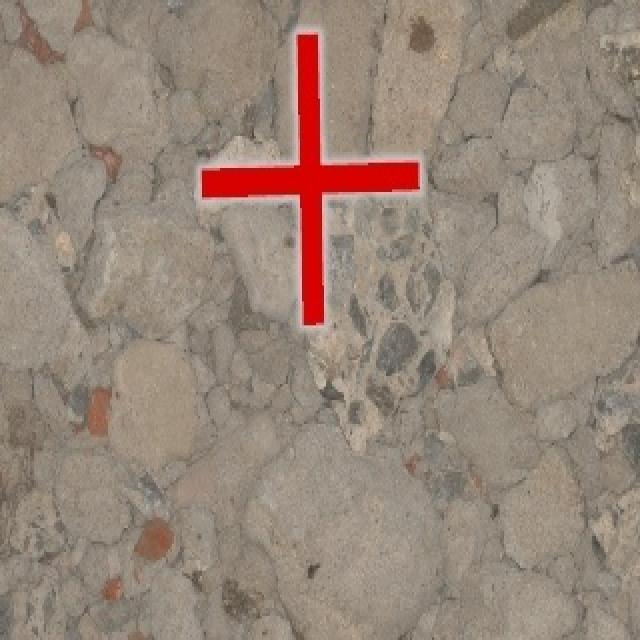x_marker: (199, 31, 419, 324)
